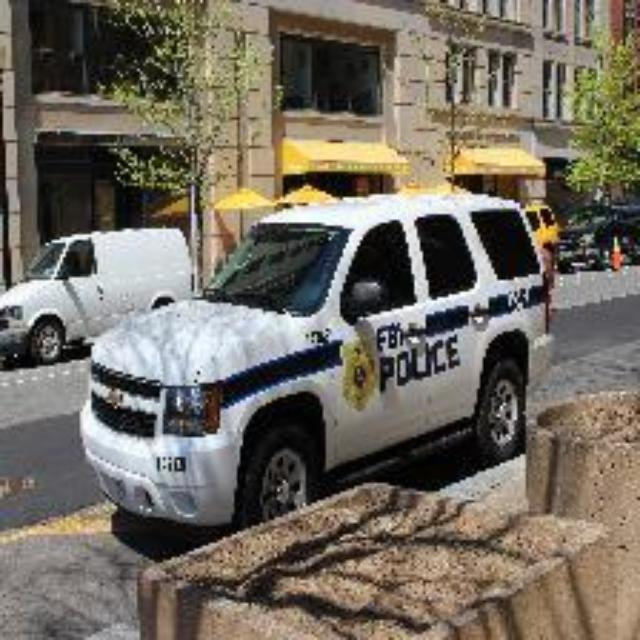emergency: (90, 192, 550, 534)
